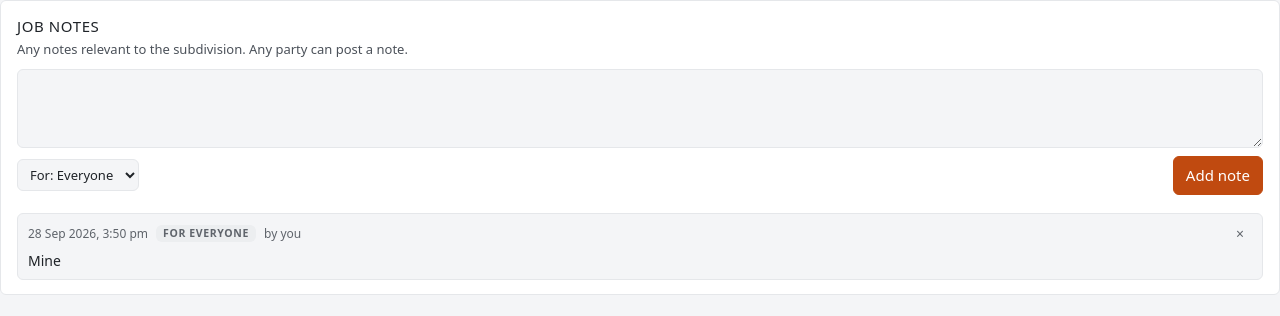
Test: JobNotes › delete › puts the note back and says so when the API refuses
What coordinates should you click on to do the following:
click the button named "Delete note"
I would click on:
 (1240, 234)
Its box is [1228,222,1252,246].
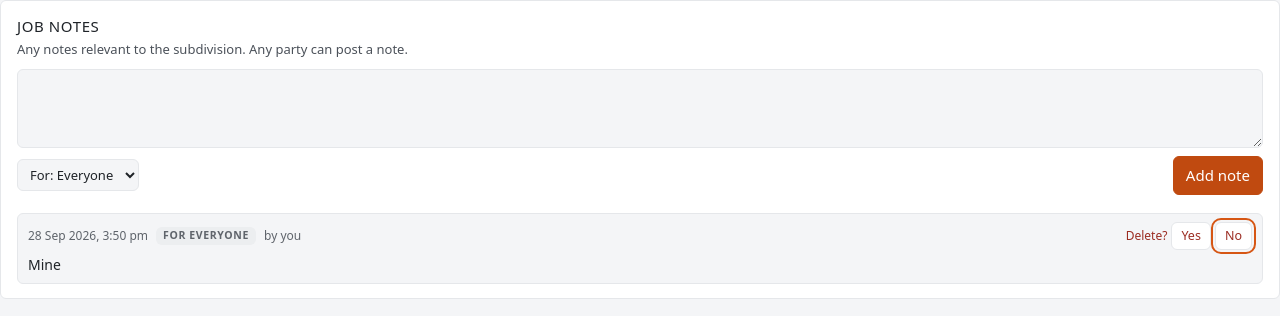
What coordinates should you click on to do the following:
click the button "Yes"
I would click on:
 (1191, 236)
Its box is [1171,222,1211,250].
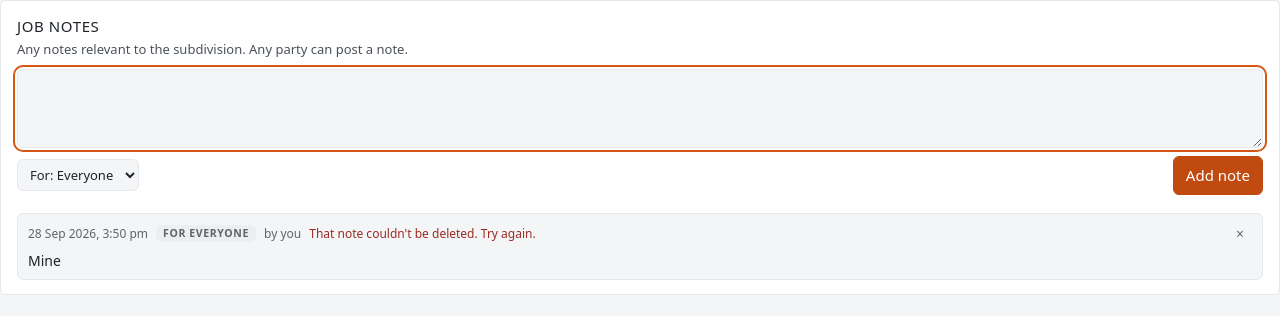
Expected: the message reads "That note couldn't be deleted. Try again.", [309,224,536,242]
